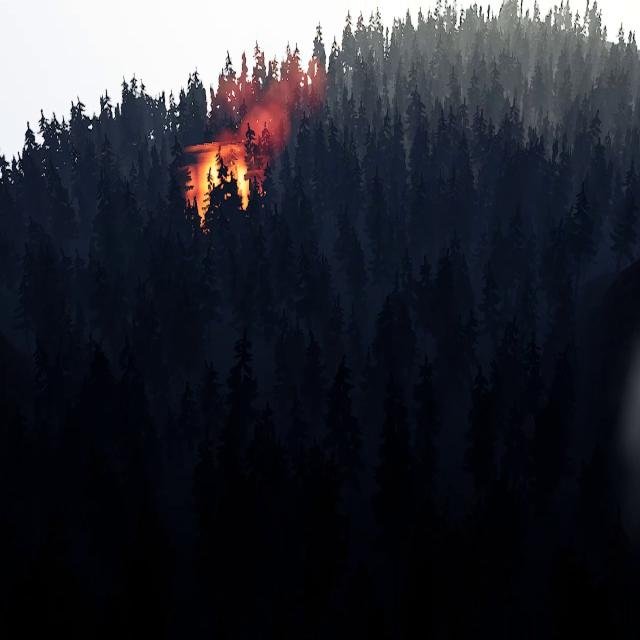fire: (185, 143, 258, 222)
smoke: (224, 53, 328, 165), (619, 334, 640, 500)
